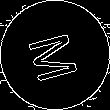M_E: (24, 26, 86, 84)
